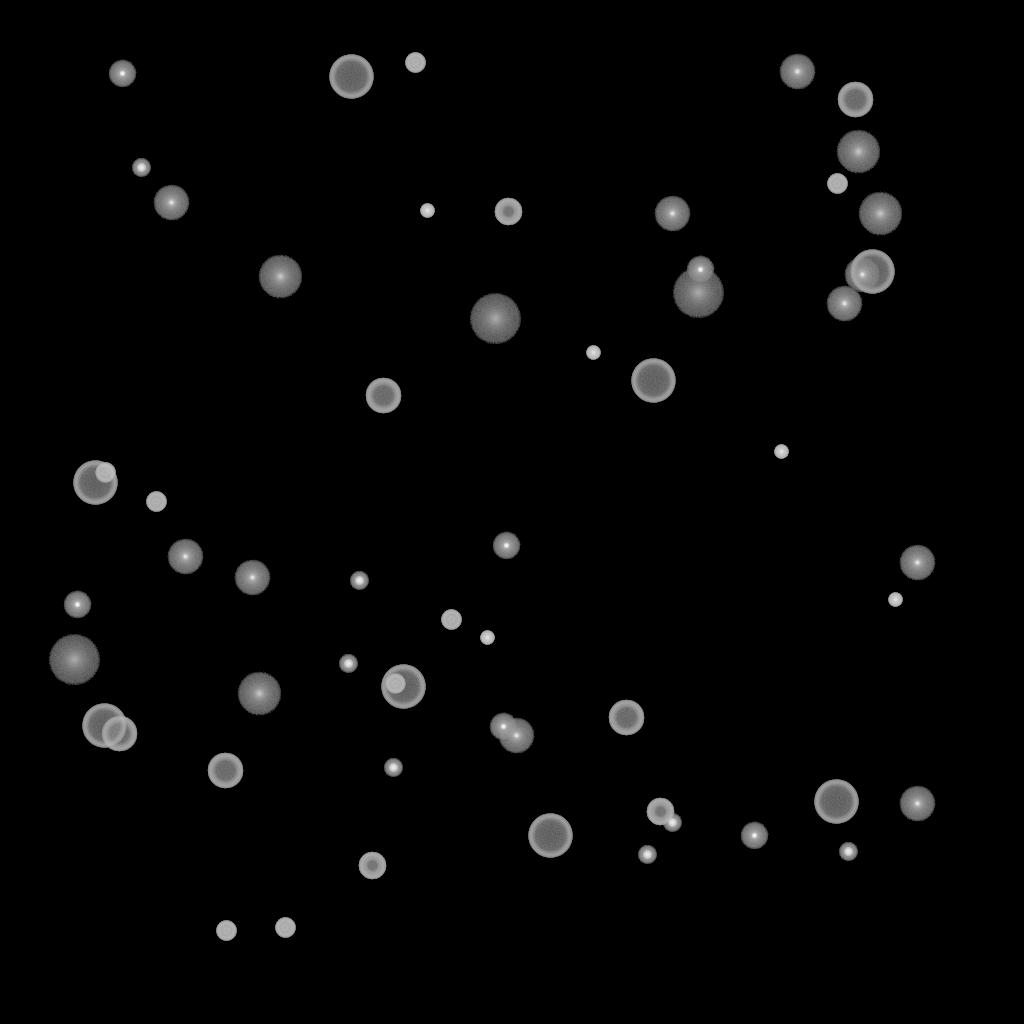depth:-10: (740, 822, 768, 850), (63, 591, 91, 619), (686, 256, 714, 284), (489, 713, 517, 741), (492, 532, 520, 560), (108, 60, 136, 88)
depth:-20: (339, 655, 357, 673), (839, 843, 857, 861), (384, 759, 402, 777), (132, 159, 150, 177), (638, 846, 656, 864), (350, 572, 368, 590), (663, 814, 681, 832)
depth:-30: (888, 593, 902, 607), (420, 204, 434, 218), (586, 346, 600, 360), (774, 445, 788, 459), (480, 631, 494, 645)
depth:-40: (827, 174, 847, 194), (441, 610, 461, 630), (405, 53, 425, 73), (385, 674, 405, 694), (275, 918, 295, 938), (95, 463, 115, 483), (146, 492, 166, 512), (216, 921, 236, 941)
depth:-50: (646, 798, 674, 826), (494, 198, 522, 226), (358, 852, 386, 880)
depth:-60: (365, 378, 401, 414), (207, 753, 243, 789), (608, 700, 644, 736), (101, 716, 137, 752), (837, 82, 873, 118)
depth:-70: (82, 704, 126, 748), (329, 55, 373, 99), (73, 461, 117, 505), (528, 814, 572, 858), (814, 780, 858, 824), (631, 359, 675, 403), (850, 250, 894, 294), (381, 665, 425, 709)
depth:0: (153, 185, 189, 221), (654, 196, 690, 232), (234, 560, 270, 596), (899, 786, 935, 822), (167, 539, 203, 575), (844, 257, 880, 293), (779, 54, 815, 90), (498, 718, 534, 754), (826, 286, 862, 322), (899, 545, 935, 581)
depth:10: (836, 130, 880, 174), (858, 192, 902, 236), (237, 672, 281, 716), (258, 255, 302, 299)
depth:20: (48, 635, 100, 685), (469, 294, 521, 344), (672, 268, 724, 318)
